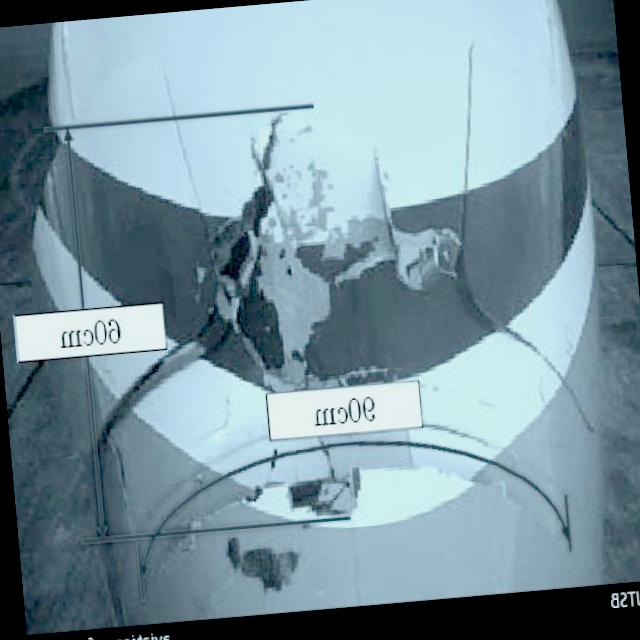crack: (76, 108, 312, 444), (366, 145, 428, 296)
